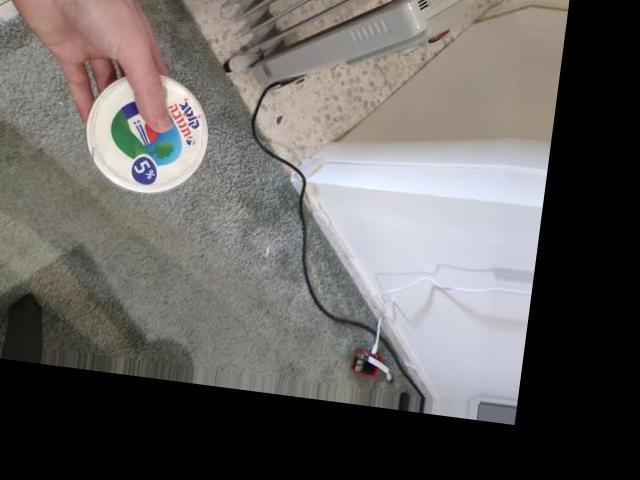cotage: (83, 67, 209, 193)
